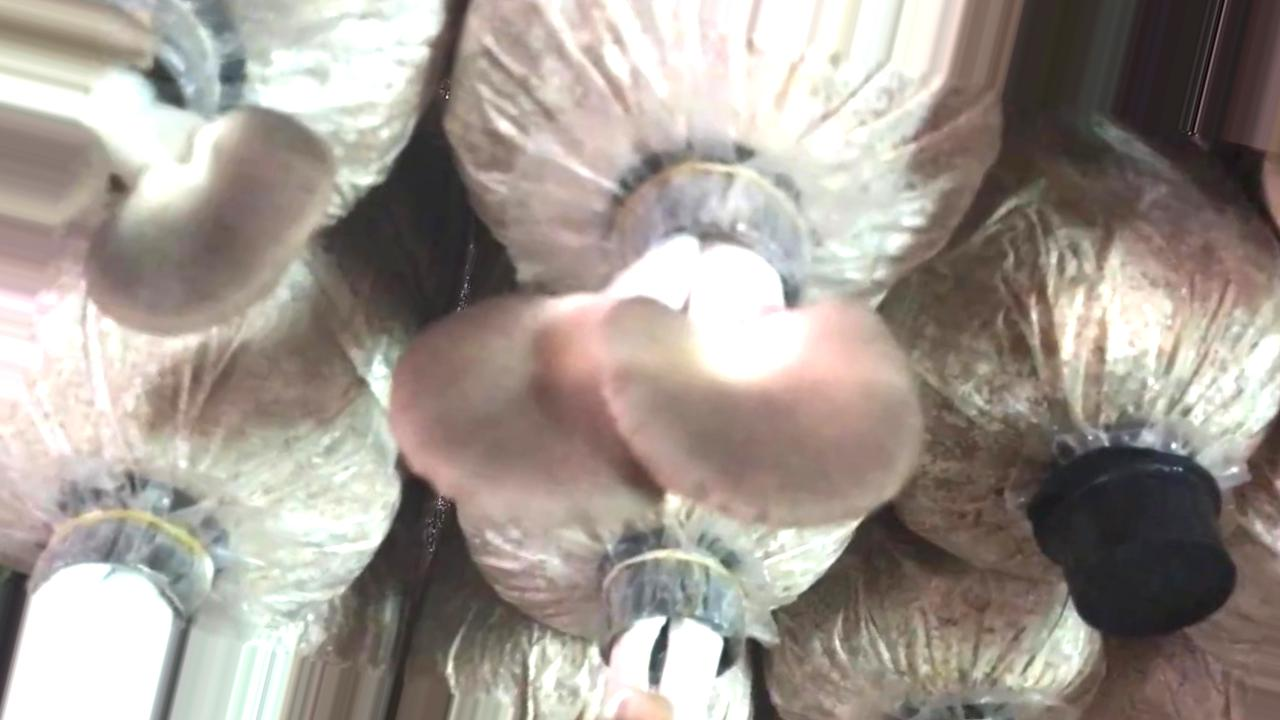nam: (385, 150, 921, 552), (1, 2, 350, 343)
